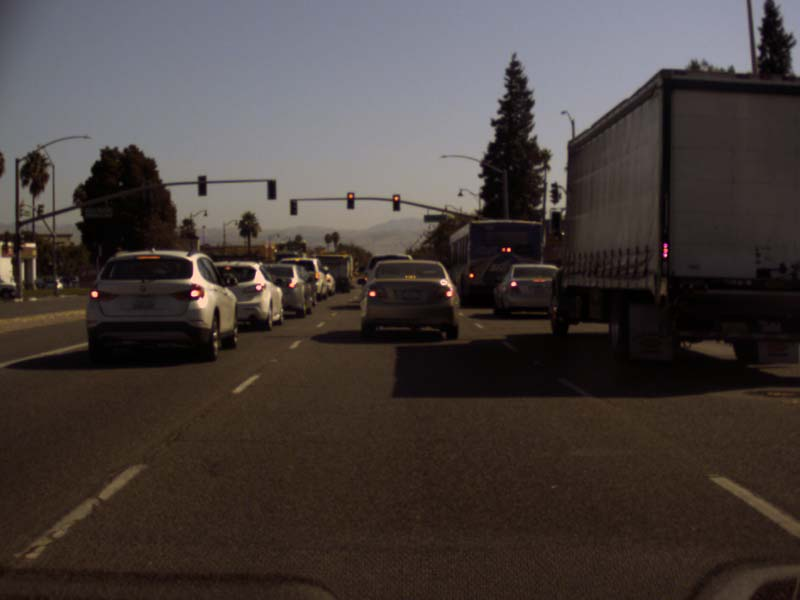Red: (392, 194, 400, 210), (347, 192, 353, 209)
